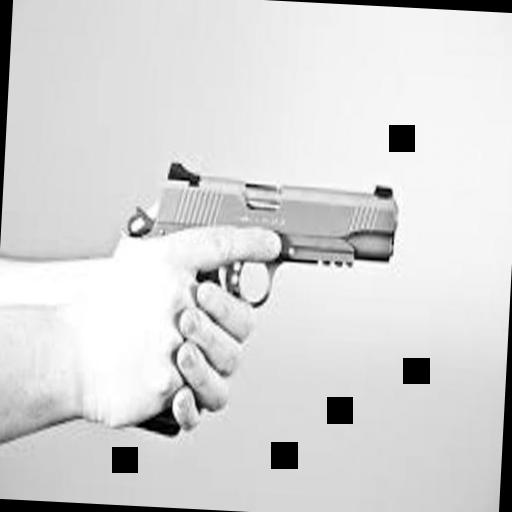Handgun: (104, 131, 405, 453)
